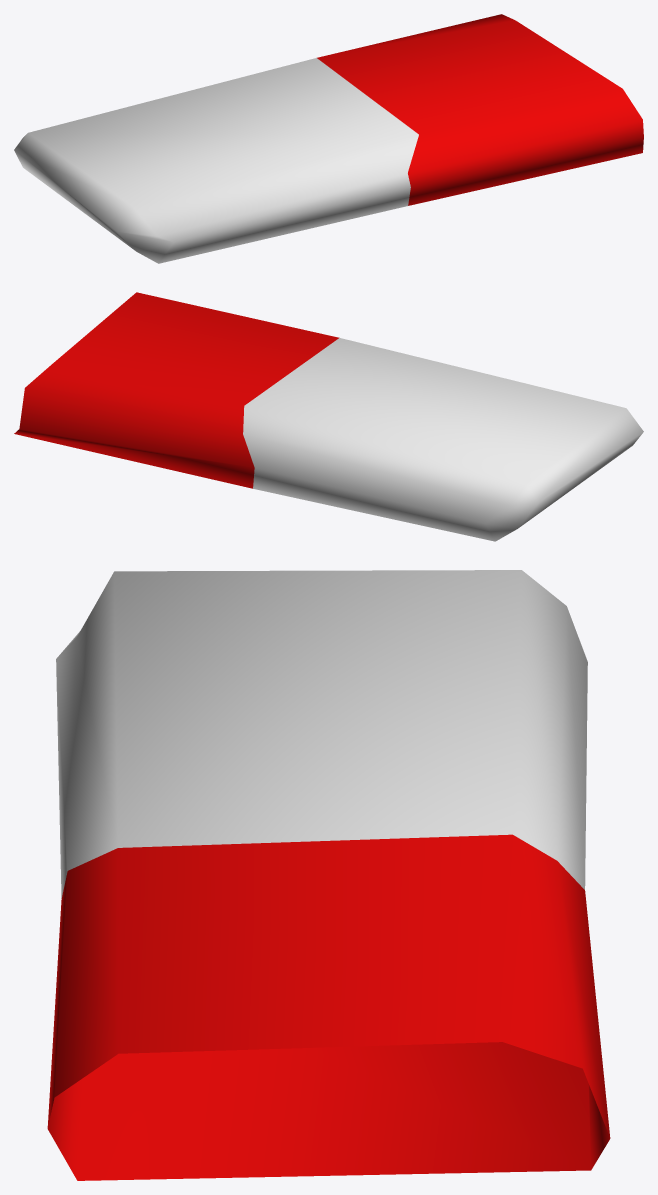
The model's file is hayBed_hay_1.glb.
The picture shows the model from 3 angles, top to bottom: view 1: azimuth 30°, elevation 25°; view 2: azimuth 150°, elevation 25°; view 3: azimuth 270°, elevation 25°; orthographic projection. The views are drawn at different scales.
Visible parts, largest first — view 1: final1.001; view 2: final1.001; view 3: final1.001.
Boxes of the visible parts, <box> form: final1.001: <box>14,14,643,263</box>; final1.001: <box>14,292,643,541</box>; final1.001: <box>47,570,610,1180</box>.
Size of the model in its own units: 1.16 by 0.146 by 0.5495.
